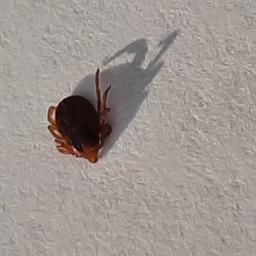Rhipicephalus sanguineus: (48, 69, 112, 164)
